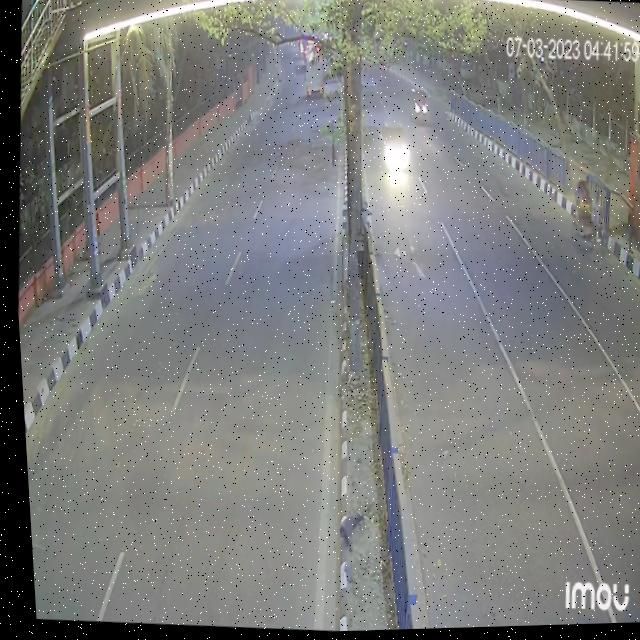rikshaw: (560, 180, 612, 266)
